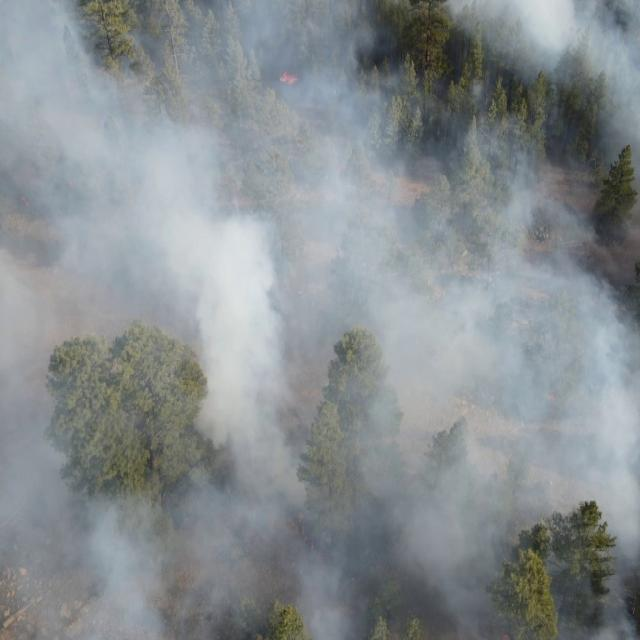fire: (277, 68, 299, 84), (499, 630, 512, 640)
smoke: (0, 0, 640, 640)
